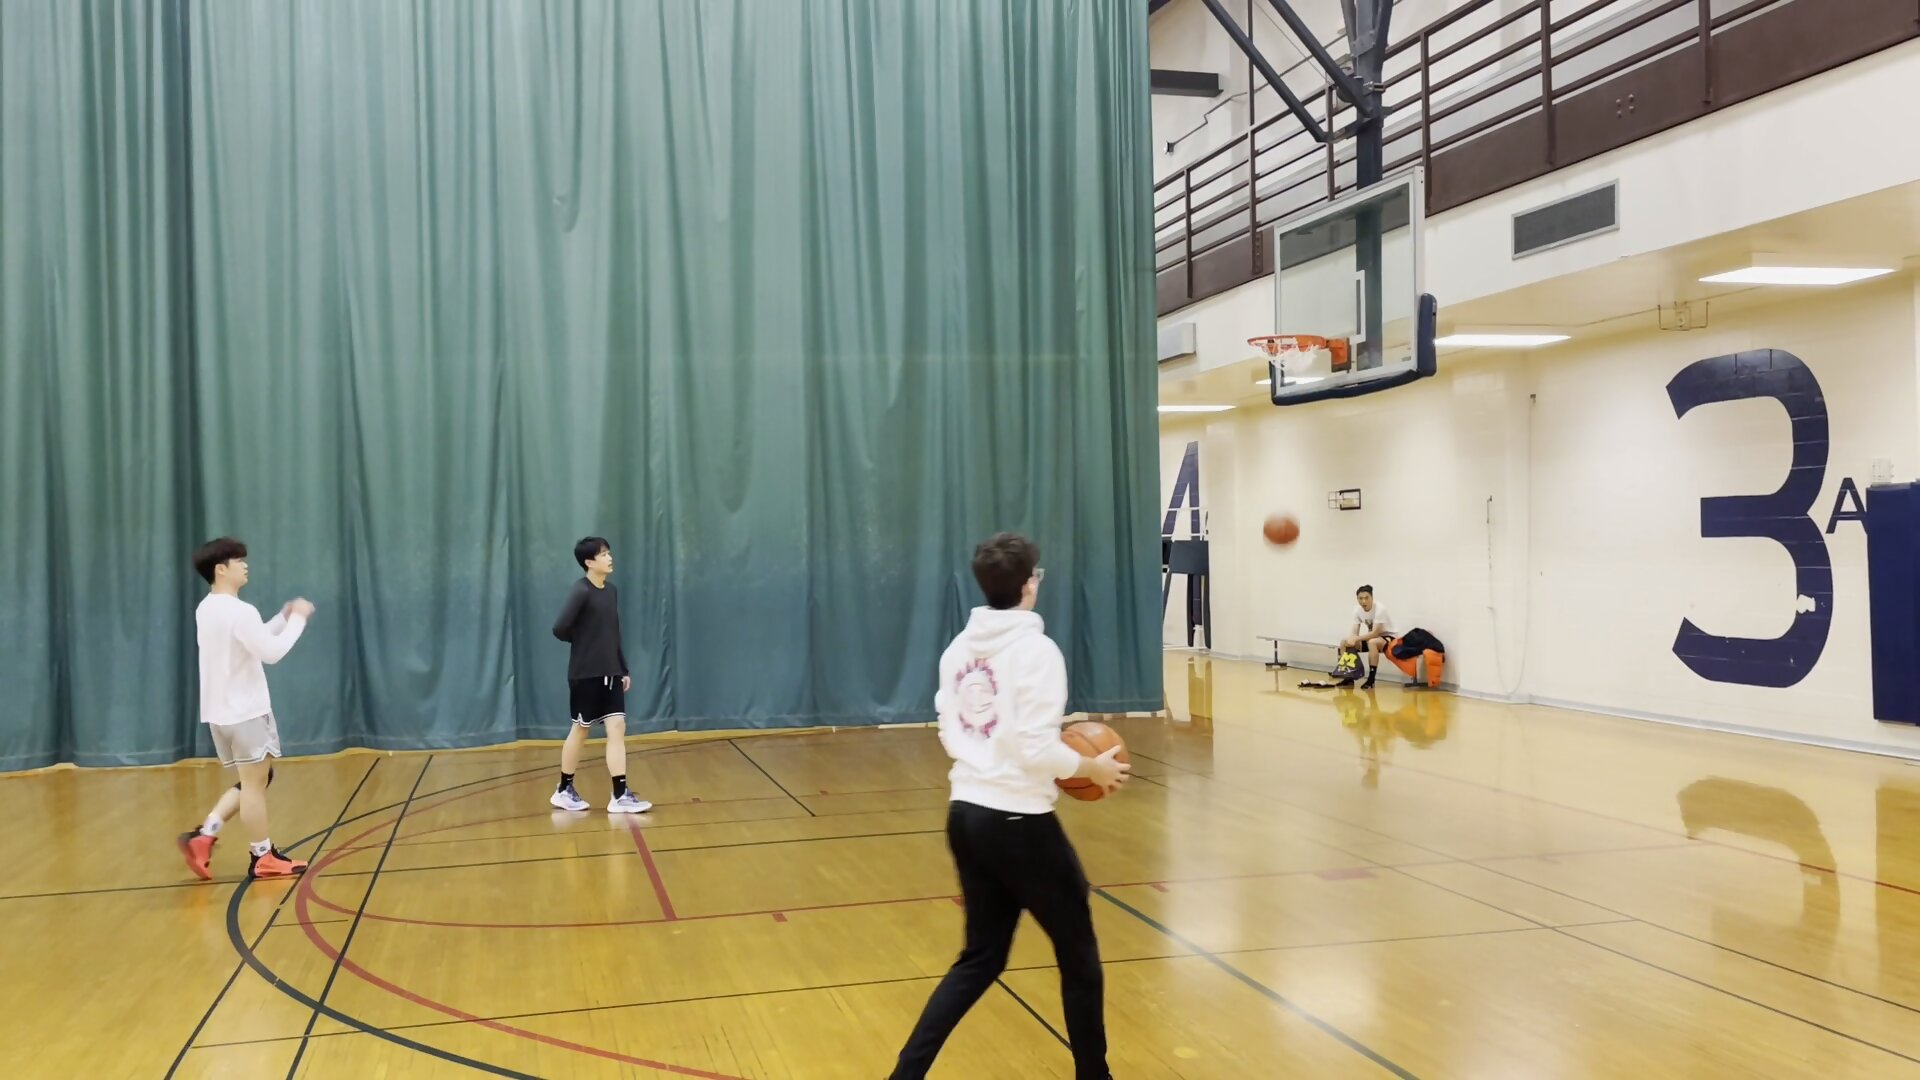ball: (1050, 716, 1134, 812), (1262, 502, 1305, 553)
net: (1262, 354, 1317, 377)
player: (911, 526, 1111, 1080), (170, 538, 310, 884), (549, 534, 653, 820), (1339, 583, 1398, 686)
rim: (1241, 330, 1334, 350)
